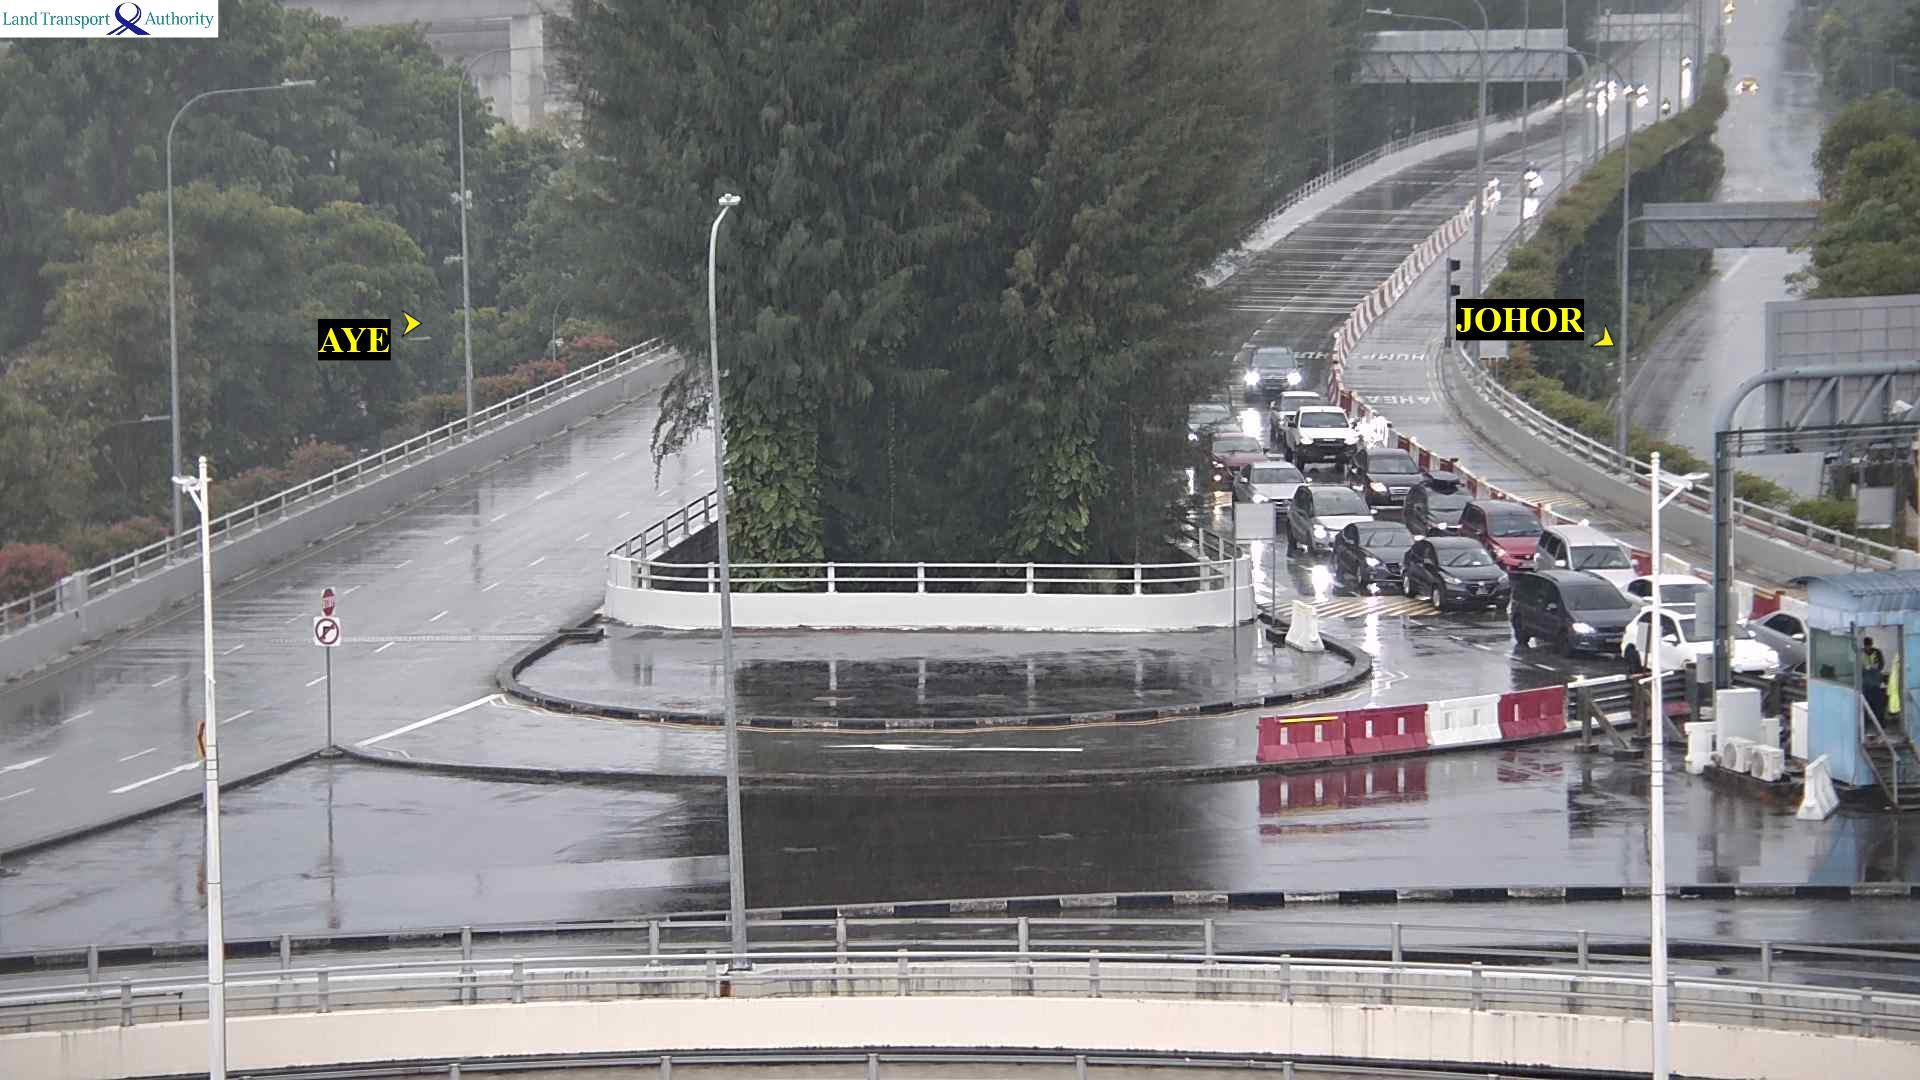vehicle-secondlink-johor: (1507, 572, 1656, 658), (1621, 576, 1788, 628), (1398, 545, 1527, 603), (1447, 505, 1557, 567), (1394, 501, 1555, 541), (1276, 493, 1385, 547), (1538, 531, 1668, 572), (1333, 452, 1429, 506), (1332, 524, 1436, 572), (1238, 348, 1327, 398), (1271, 407, 1364, 454), (1394, 495, 1498, 533), (1233, 464, 1323, 504), (1193, 439, 1278, 475), (1284, 443, 1369, 476)
